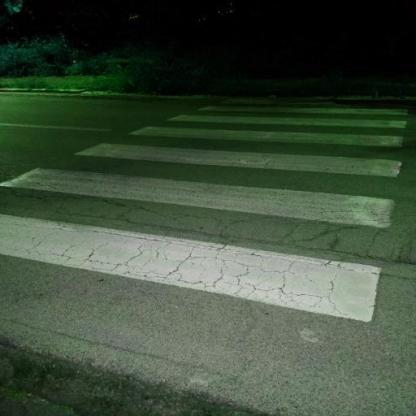crosswalk: (72, 123, 411, 185)
